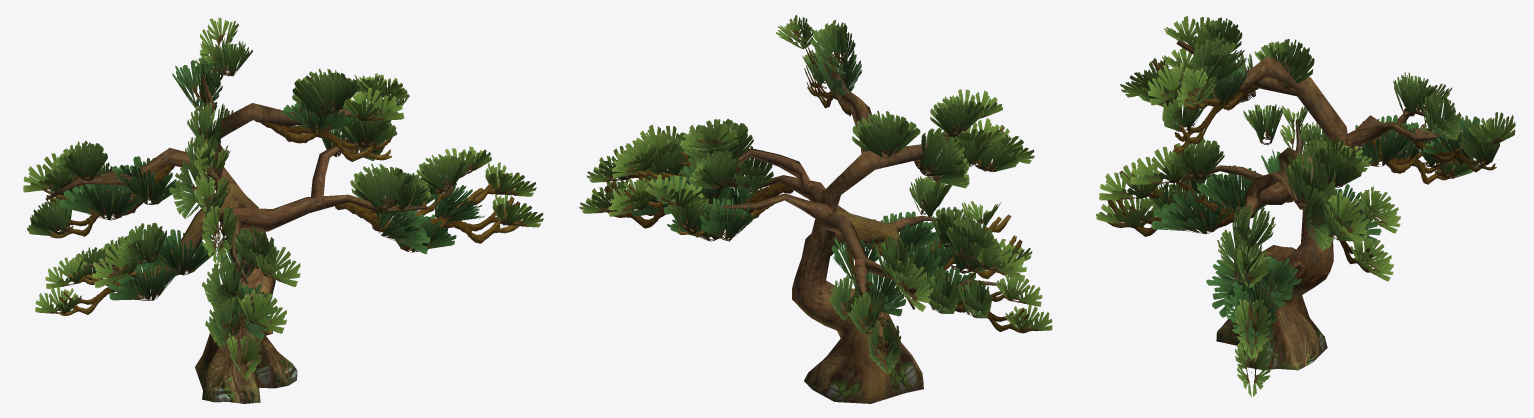
Rendered from songshu_01.FBX.
3 views of the same model, side by side, from view 1: azimuth 30°, elevation 25°; view 2: azimuth 150°, elevation 25°; view 3: azimuth 270°, elevation 25° (orthographic). The views are drawn at different scales.
Visible parts, largest first — view 1: songshu_01; view 2: songshu_01; view 3: songshu_01.
Boxes of the visible parts, x1,y1,x2,y2 form: songshu_01: (23, 17, 543, 403); songshu_01: (579, 15, 1052, 403); songshu_01: (1096, 16, 1515, 396).
Bounding box in the file's own units: 1261 × 767 × 901.
